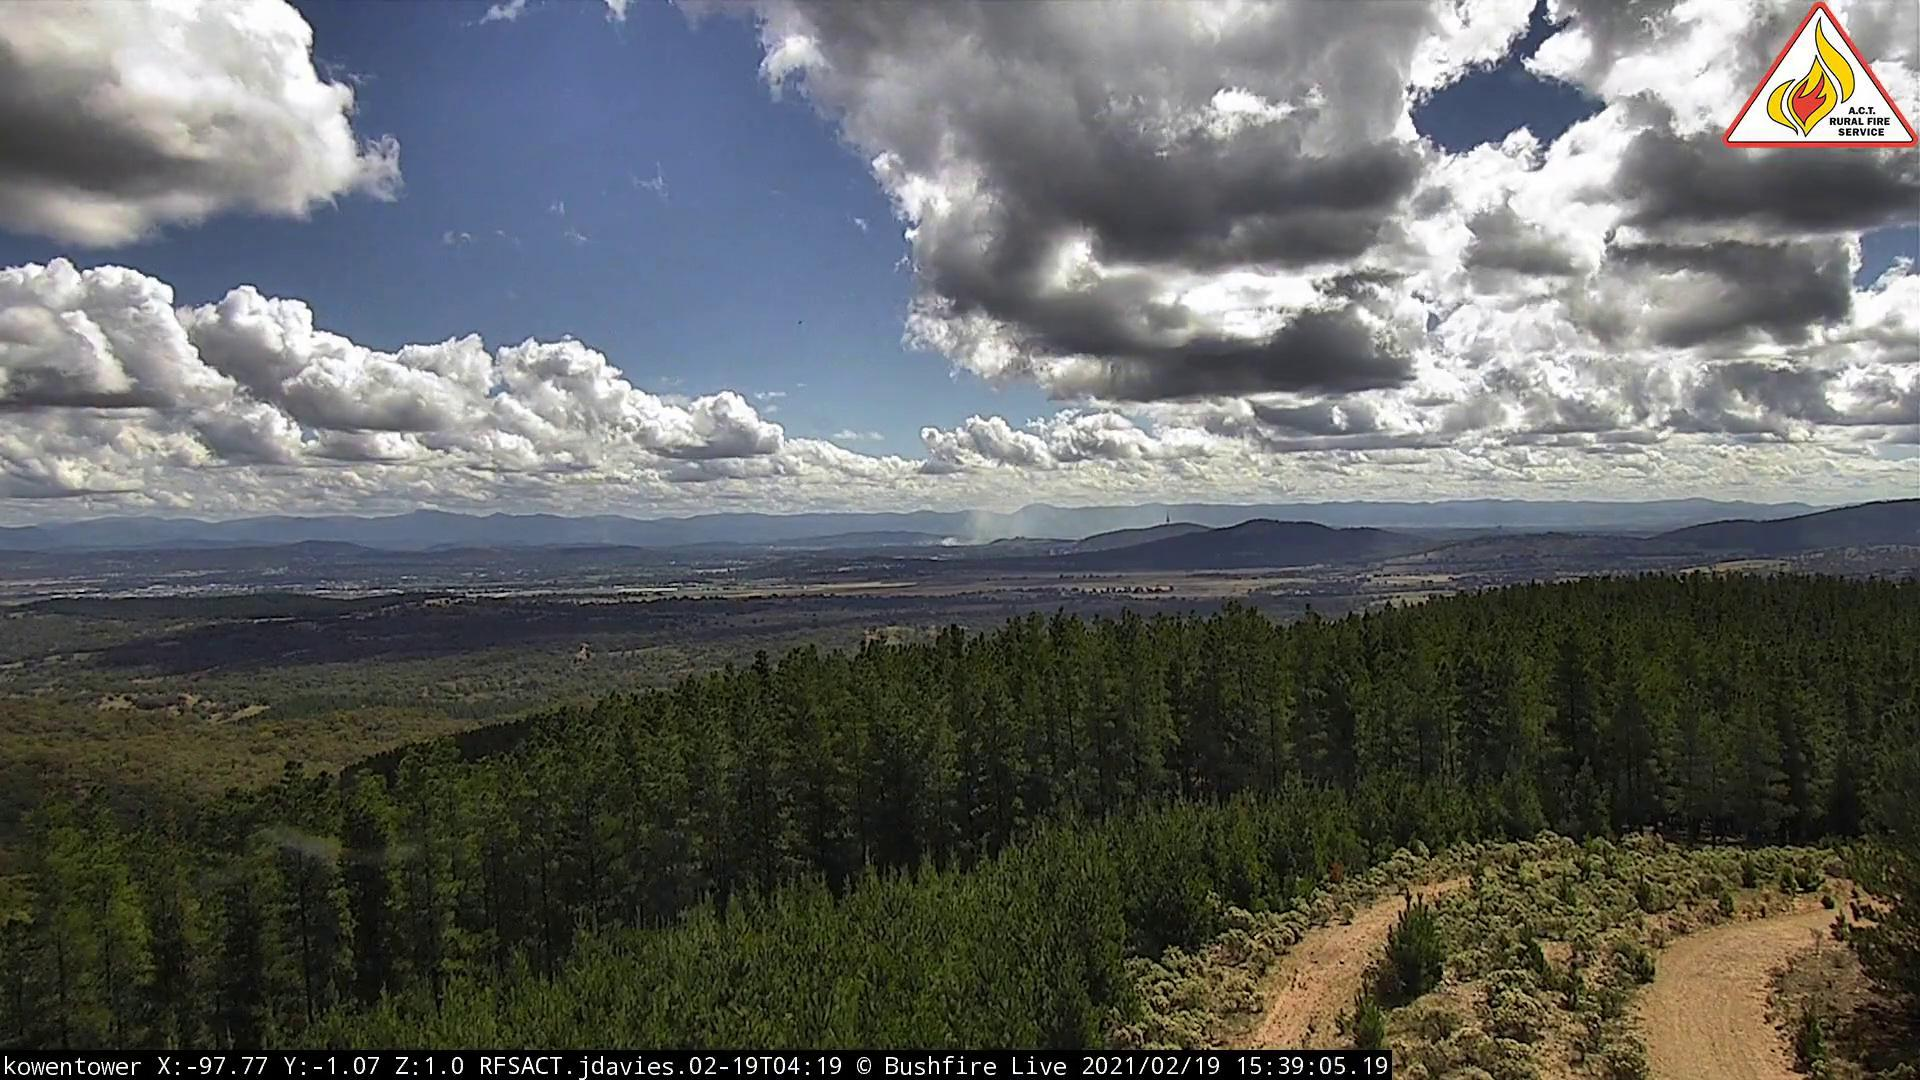Smoke: (938, 497, 1051, 551)
